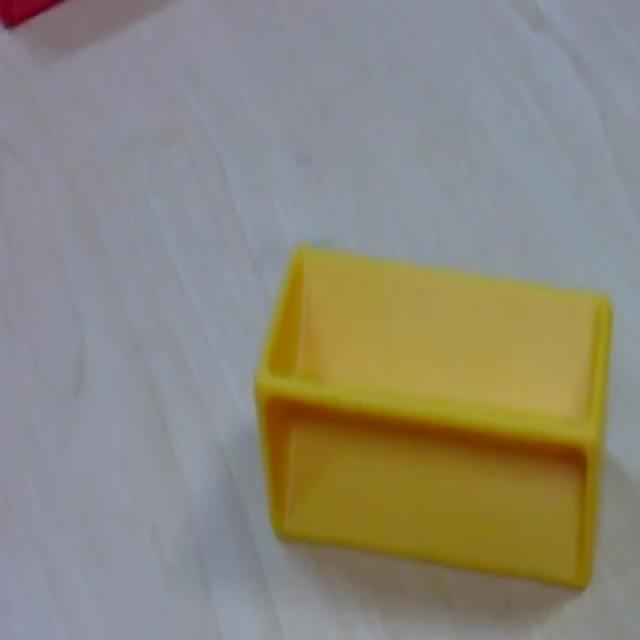yellow_block: (253, 237, 613, 591)
